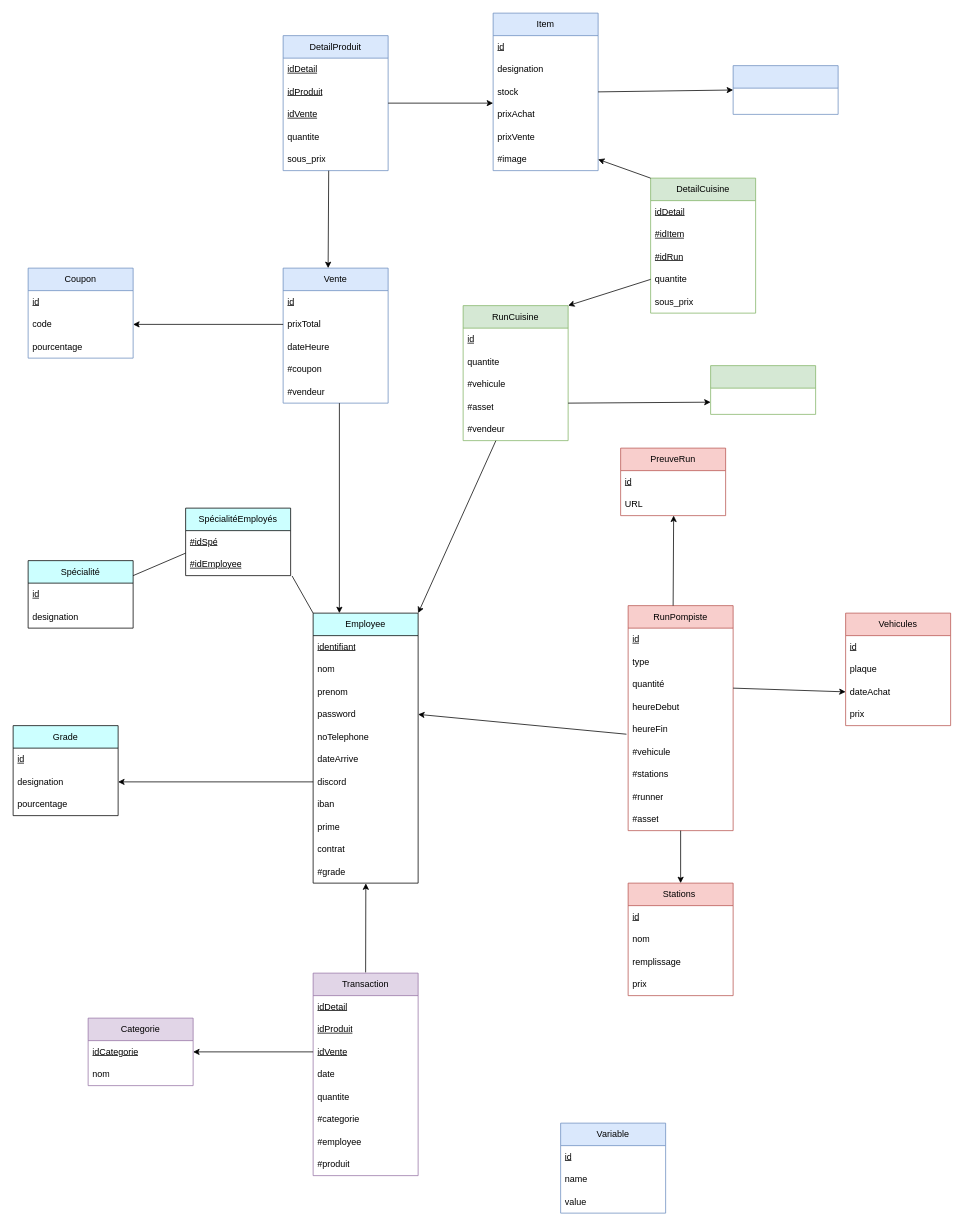
This 964x1226 diagram has some shape labels left out. The centre of each missing label's shape, as x and y in pixels:
"AssetCuisine" belongs at point (763, 389).
"ImageItems" belongs at point (785, 89).
